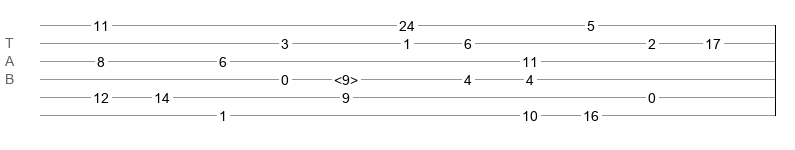0: (281, 72, 289, 82), (648, 90, 656, 100)
1: (219, 108, 227, 118), (403, 36, 411, 46)
10: (522, 108, 538, 118)
11: (93, 18, 109, 28), (522, 54, 538, 64)
12: (93, 90, 109, 100)
14: (154, 90, 170, 100)
16: (583, 108, 599, 118)
17: (705, 36, 721, 46)
2: (648, 36, 656, 46)
24: (399, 18, 415, 28)
3: (281, 36, 289, 46)
4: (464, 72, 472, 82), (526, 72, 534, 82)
5: (587, 18, 595, 28)
6: (219, 54, 227, 64), (464, 36, 472, 46)
8: (97, 54, 105, 64)
9: (342, 90, 350, 100)
harmonic: (334, 72, 358, 82)
